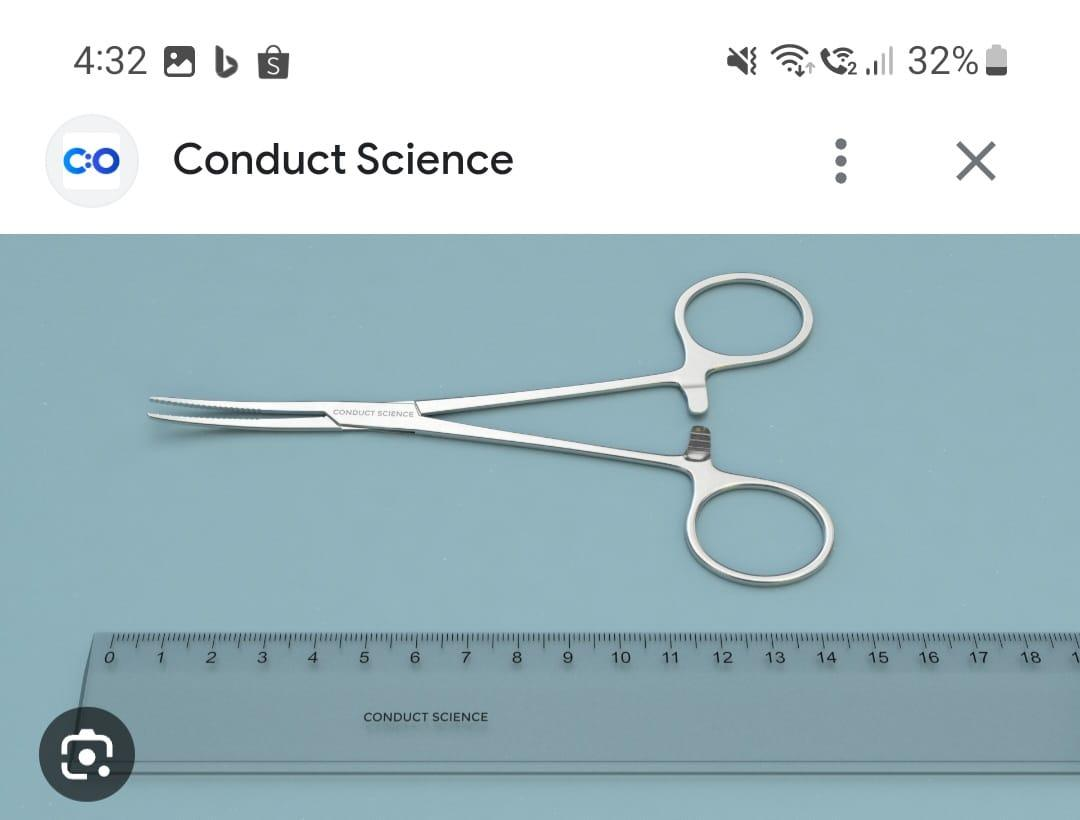Artery Forceps: (145, 272, 844, 593)
